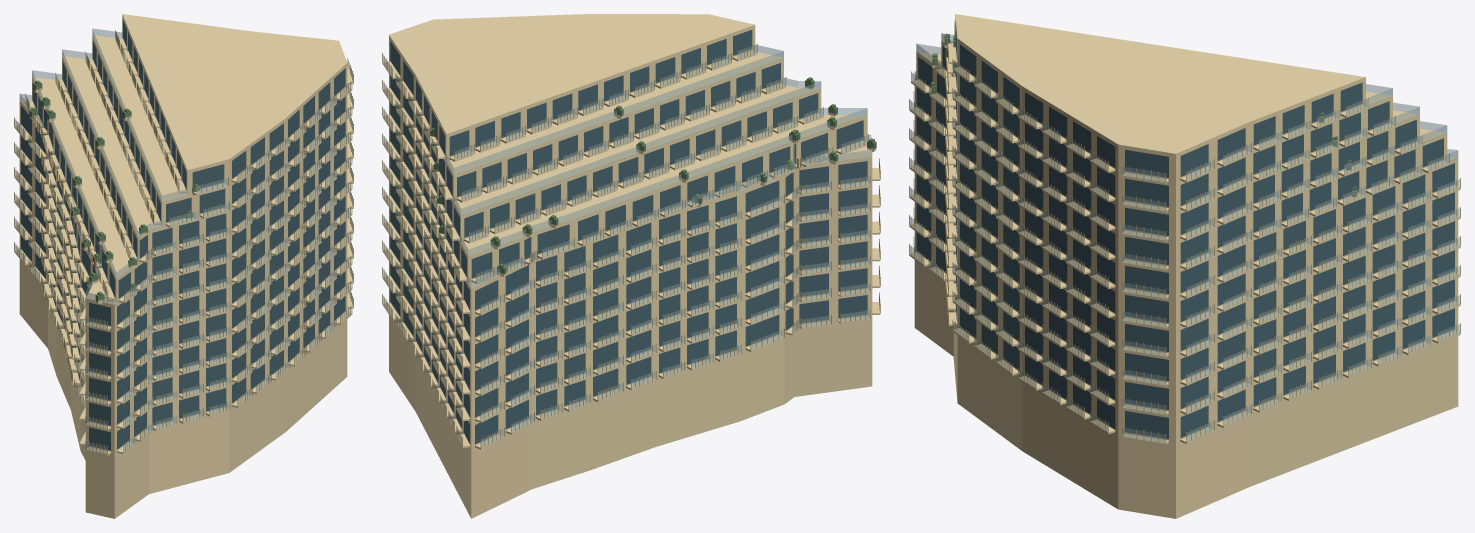
The model's file is balluta-terraces.glb.
The picture shows the model from 3 angles, left to right: view 1: azimuth 30°, elevation 25°; view 2: azimuth 150°, elevation 25°; view 3: azimuth 270°, elevation 25°; orthographic projection. The views are drawn at different scales.
Visible parts, largest first — view 1: Balluta Terraces; view 2: Balluta Terraces; view 3: Balluta Terraces.
Part boxes in pixels (x1,y1,x2,y2): Balluta Terraces: (14,14,353,518); Balluta Terraces: (382,14,880,518); Balluta Terraces: (909,14,1460,518).
Size of the model in its own units: 47.56 by 39.63 by 54.29.
